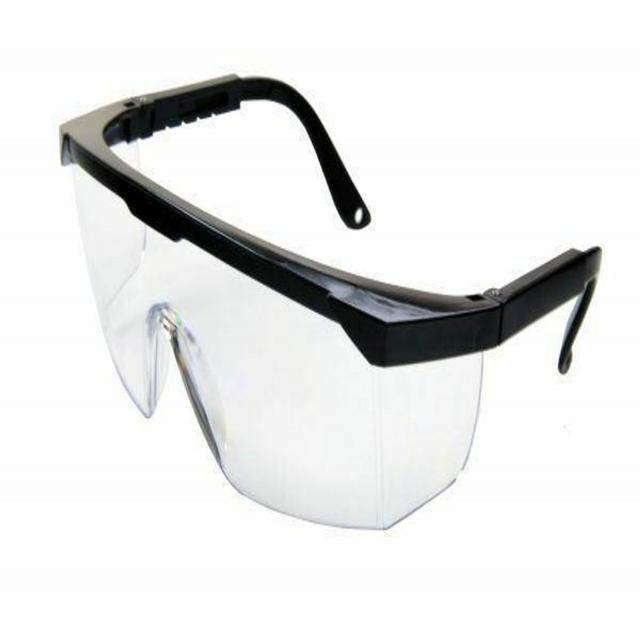Protective Glasses: (24, 21, 617, 606)
